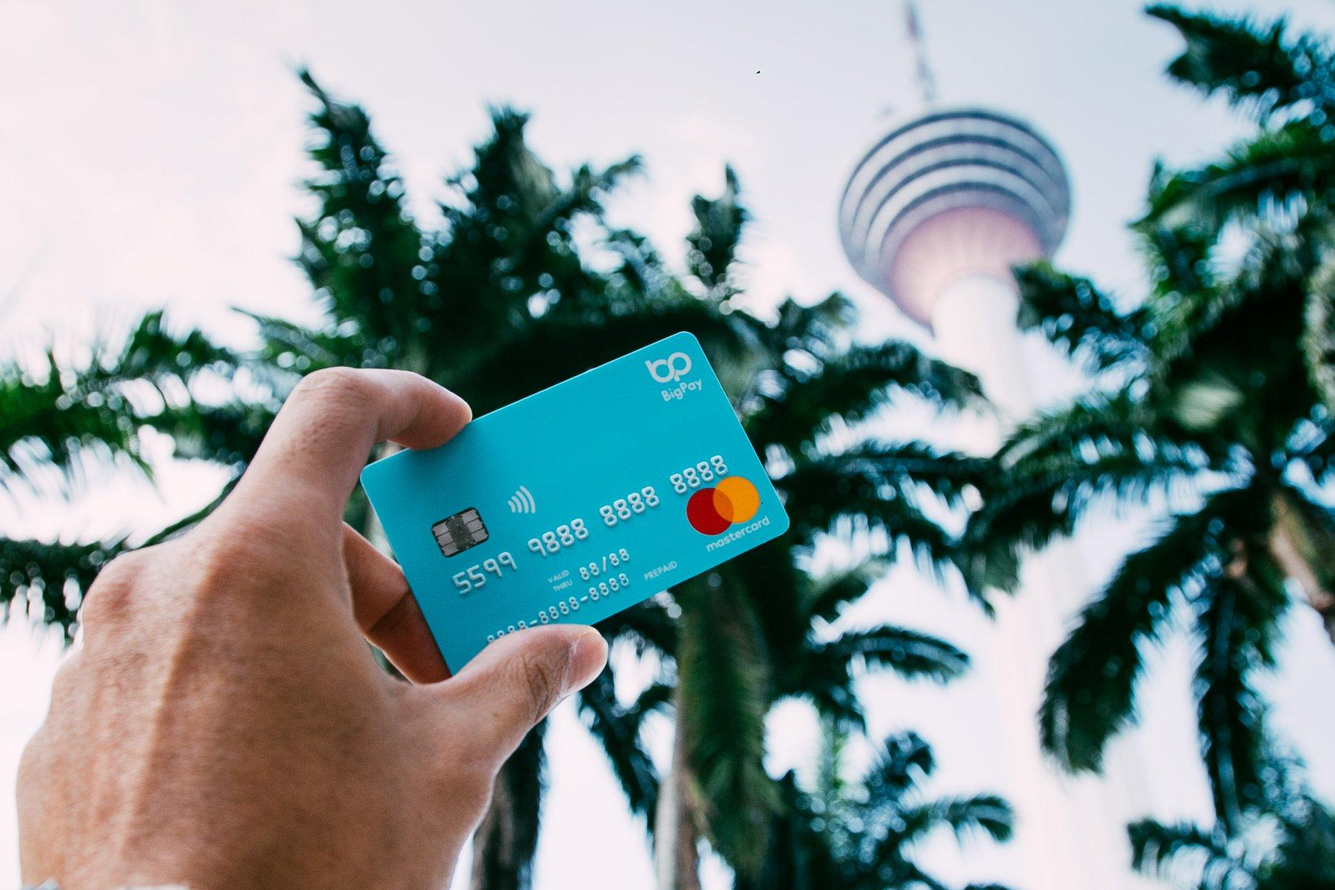Credit_card: (362, 332, 789, 673)
